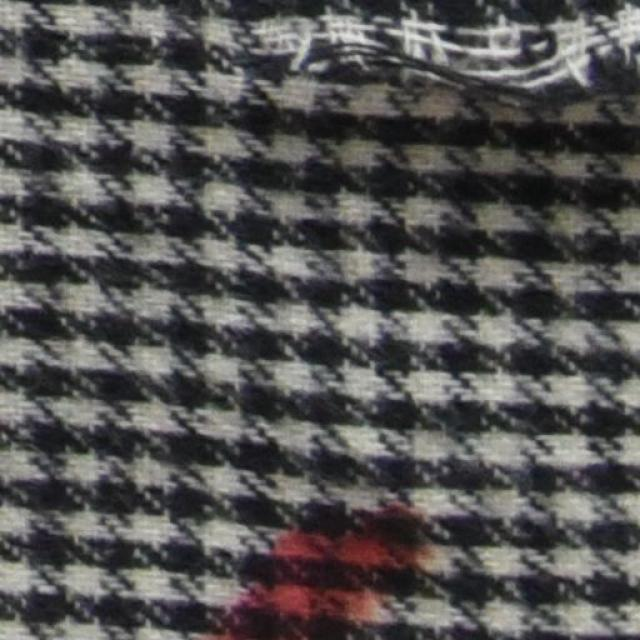Snag: (272, 3, 639, 118)
Stain: (212, 493, 428, 639)
